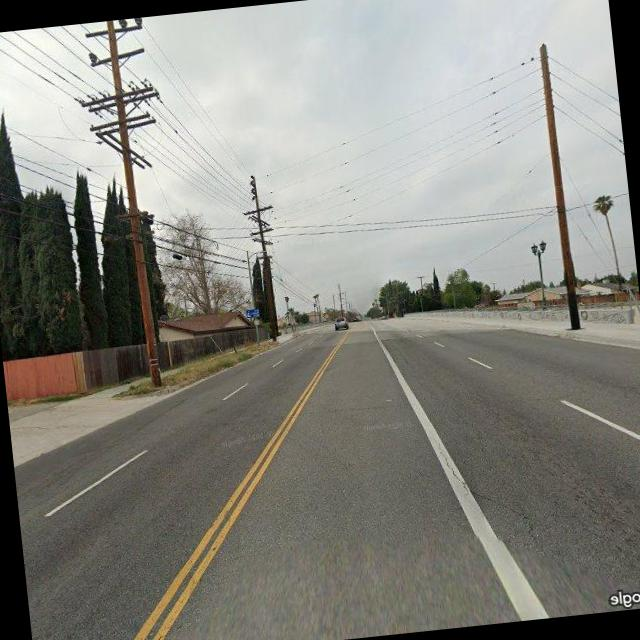pothole: (463, 477, 546, 553)
